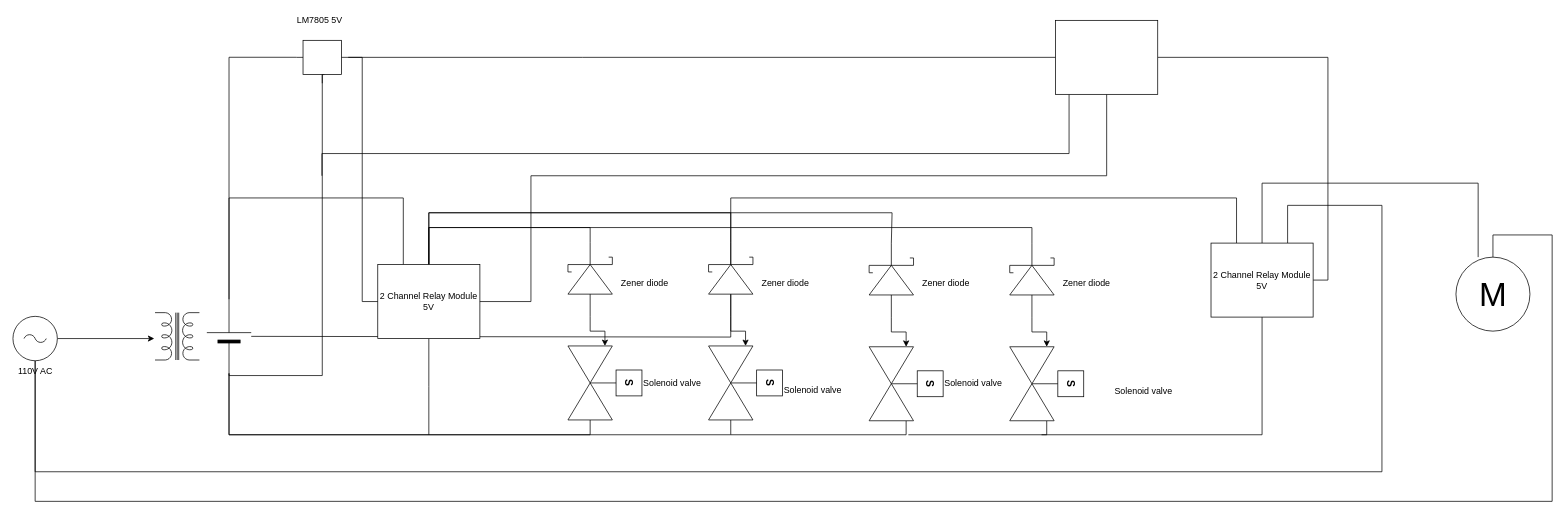
The diagram is 1566 pixels wide and 515 high, and some of its shapes have lost their labels. Here are the shapes that lost their labels. From the top down, the box of each, then its label:
(1055, 20, 1158, 94): ESP8266
(206, 299, 251, 373): 12 V DC
